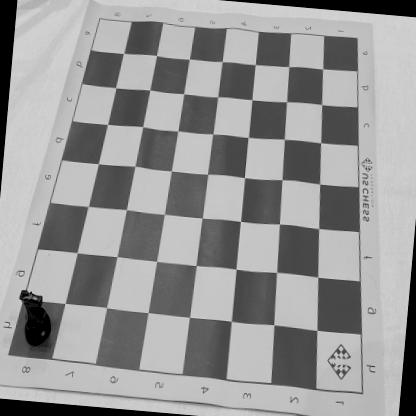black-knight: (15, 290, 54, 348)
